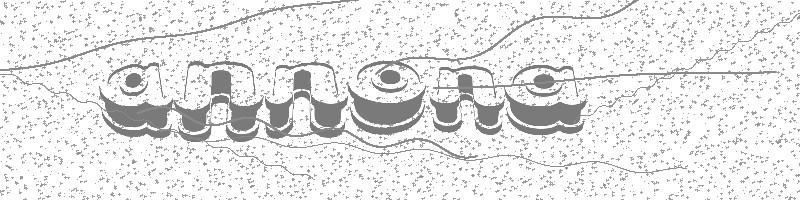a: (506, 63, 587, 137), (98, 61, 174, 139)
n: (174, 60, 265, 144), (265, 61, 348, 139), (428, 65, 505, 136)
o: (349, 59, 426, 135)
